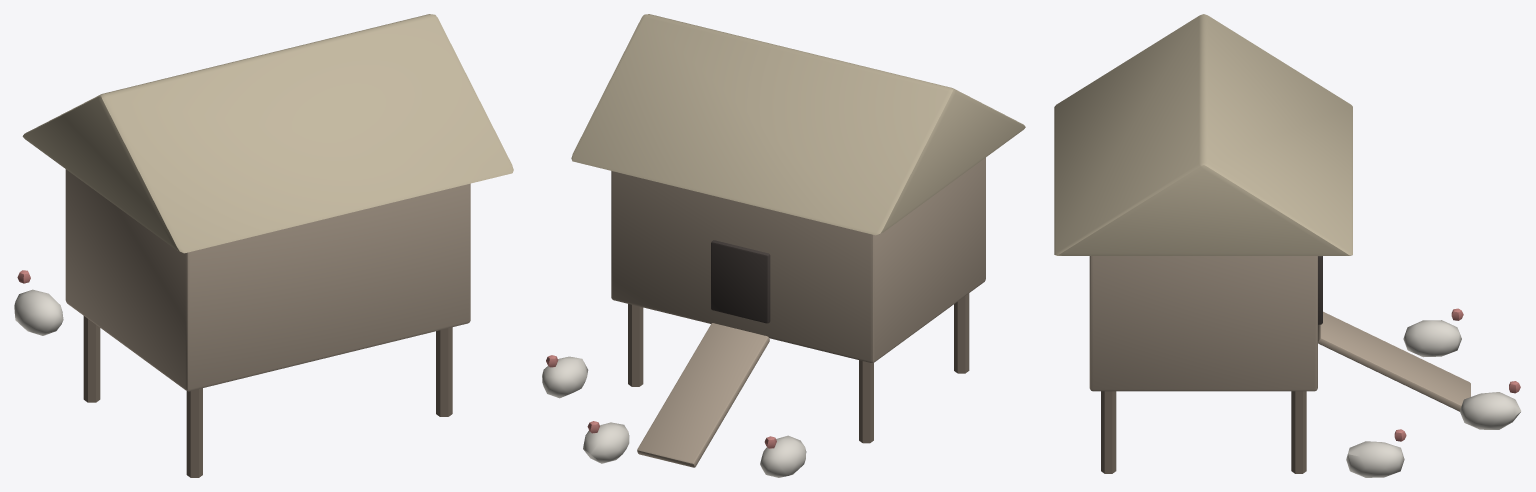
The model's file is coop.gltf.
3 views of the same model, side by side, from view 1: azimuth 30°, elevation 25°; view 2: azimuth 150°, elevation 25°; view 3: azimuth 270°, elevation 25° (orthographic). The views are drawn at different scales.
Visible parts, largest first — view 1: Body; view 2: Body; view 3: Body.
Boxes of the visible parts, bbox=[...] form: Body: bbox=[14, 14, 513, 477]; Body: bbox=[542, 14, 1025, 477]; Body: bbox=[1054, 14, 1521, 477].
Bounding box in the file's own units: 1.96 × 1.89 × 2.45.
